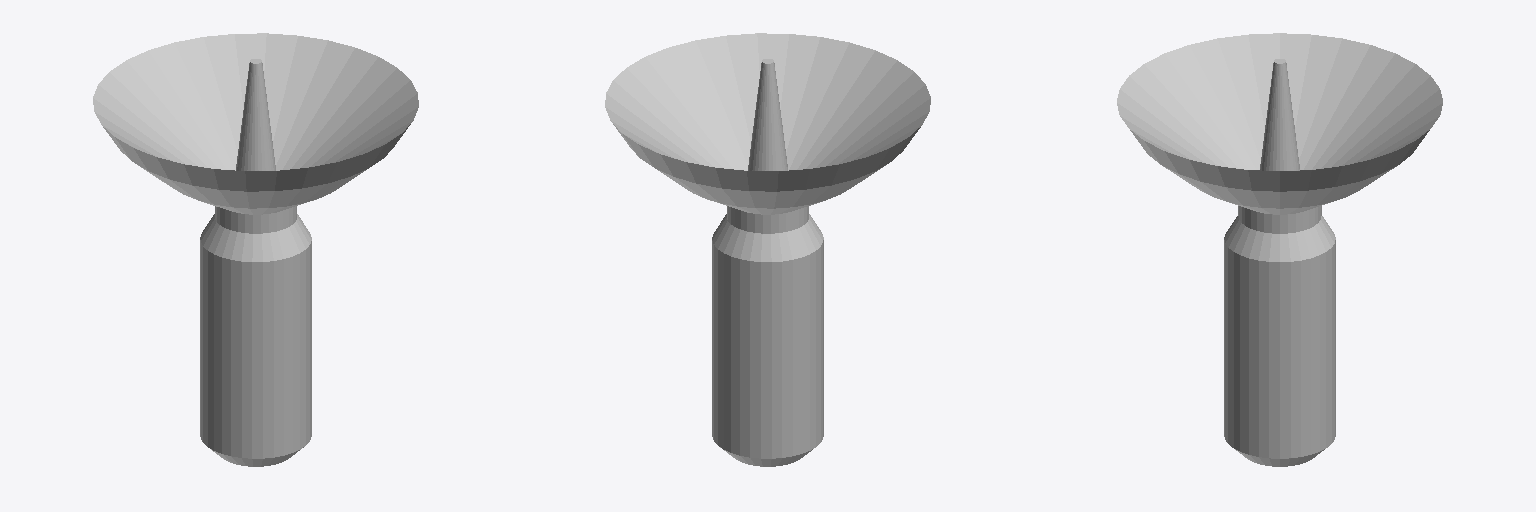
File: Satellite-Body.obj
The picture shows the model from 3 angles: view 1: azimuth 30°, elevation 25°; view 2: azimuth 150°, elevation 25°; view 3: azimuth 270°, elevation 25°; orthographic projection.
Bounding box in the file's own units: 5.85 × 7.7 × 5.85.